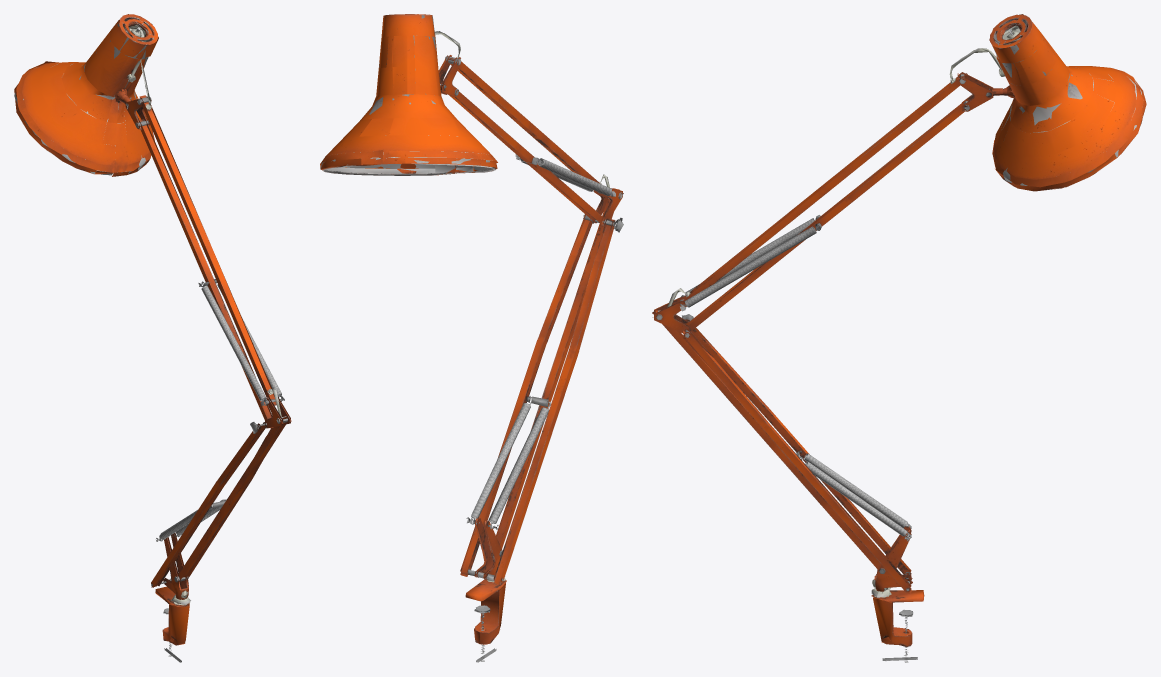
File: desk_lamp_arm_01.glb
The picture shows the model from 3 angles, left to right: view 1: azimuth 30°, elevation 25°; view 2: azimuth 150°, elevation 25°; view 3: azimuth 270°, elevation 25°; orthographic projection. The views are drawn at different scales.
Visible parts, largest first — view 1: desk_lamp_arm_01; view 2: desk_lamp_arm_01; view 3: desk_lamp_arm_01.
Part boxes in pixels (x1=…): desk_lamp_arm_01: x1=14, y1=14, x2=291, y2=662; desk_lamp_arm_01: x1=320, y1=14, x2=623, y2=662; desk_lamp_arm_01: x1=652, y1=14, x2=1146, y2=662.
Bounding box in the file's own units: 0.2017 × 0.8927 × 0.6157.
Materials: 2 (2 with a texture image).
